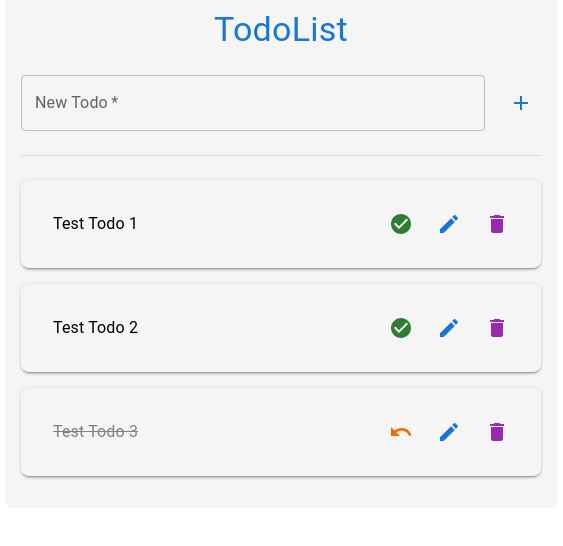
Test: TodoPage › TODOが更新されること
The width and height of the screenshot is (563, 546).
Click the button named "edit todo" in the row of "Test Todo 1" at (449, 224), box [429,204,469,244]
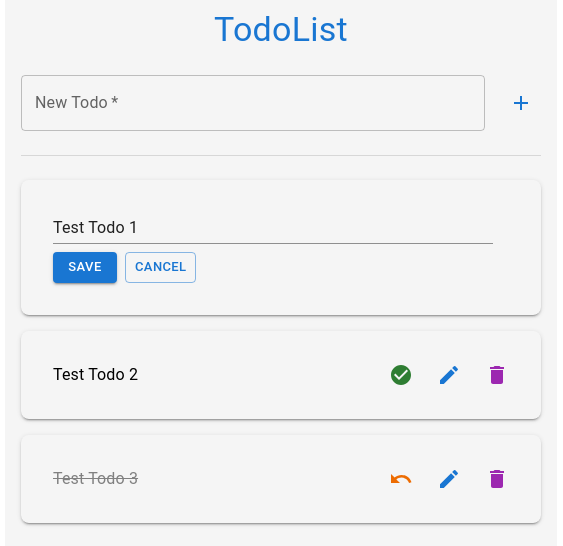
Replace the text in the field showing "Test Todo 1" with "Updated Todo" at (273, 228), box [53,212,493,244]
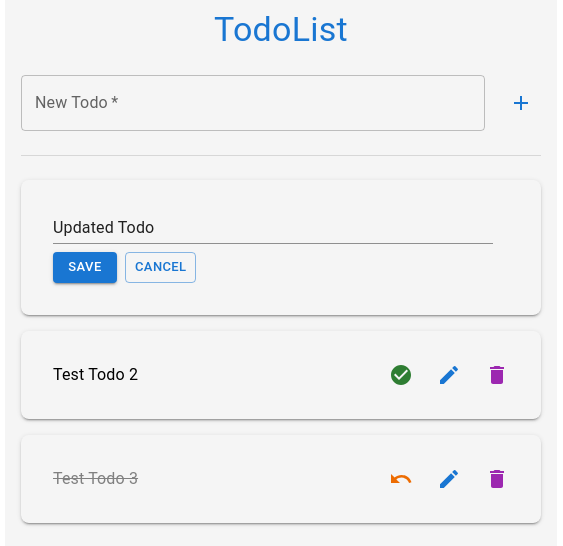
Click the button with aria-label "save todo" at (85, 267), box [53,252,117,283]
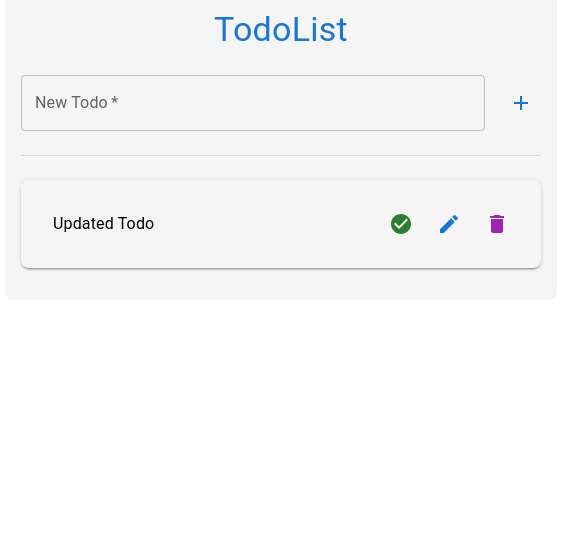
Now the text "Updated Todo" is shown, box [53,214,154,233]
